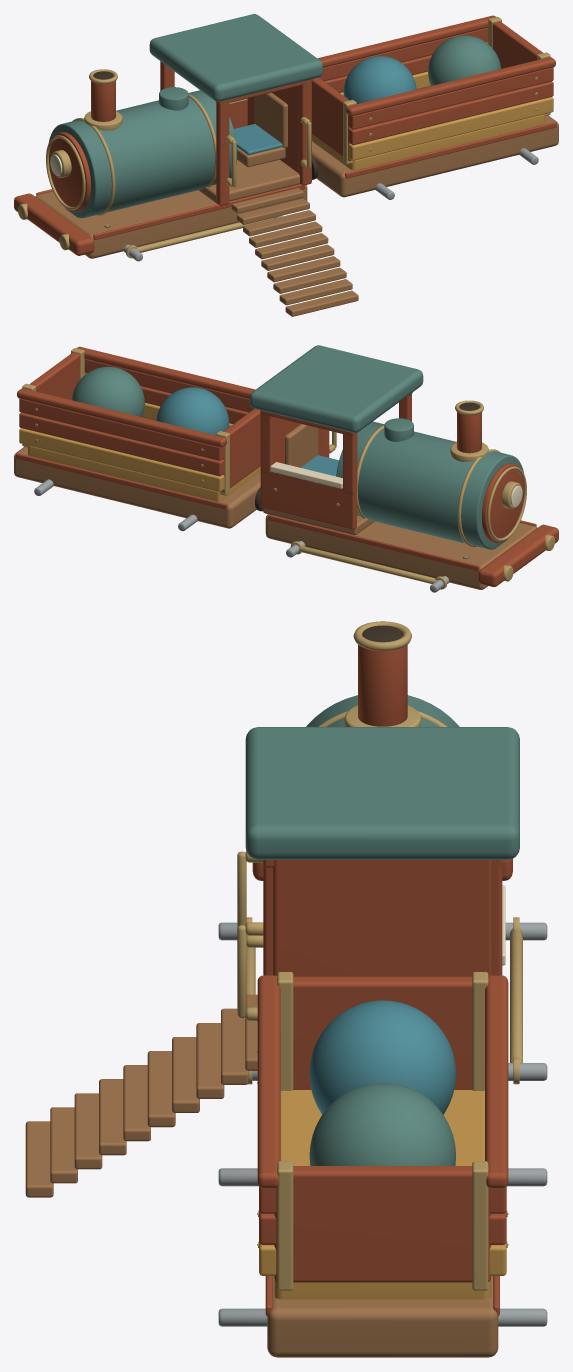
Rendered from v17_train_body.glb.
3 renders of one model, top to bottom at view 1: azimuth 30°, elevation 25°; view 2: azimuth 150°, elevation 25°; view 3: azimuth 270°, elevation 25°, orthographic. The views are drawn at different scales.
Parts seen in each view (by area): view 1: V15_RedPaint, V15_GreenPaint, V15_HoneyOak, V15_OchrePaint, V15_BrushedBrass, V15_BluePaint, V15_BearingSteel; view 2: V15_RedPaint, V15_GreenPaint, V15_HoneyOak, V15_OchrePaint, V15_BrushedBrass, V15_BluePaint, V15_CreamPaint, V15_BearingSteel; view 3: V15_RedPaint, V15_GreenPaint, V15_HoneyOak, V15_BrushedBrass, V15_BluePaint, V15_OchrePaint, V15_BearingSteel.
Part boxes in pixels (box(x1,y1,x2,y2)): V15_RedPaint: box(14, 15, 556, 255); V15_GreenPaint: box(48, 14, 500, 218); V15_HoneyOak: box(35, 92, 558, 316); V15_OchrePaint: box(312, 71, 553, 170); V15_BrushedBrass: box(18, 16, 550, 258); V15_BluePaint: box(234, 56, 416, 154); V15_BearingSteel: box(123, 148, 538, 261); V15_RedPaint: box(16, 346, 558, 586); V15_GreenPaint: box(72, 345, 523, 549); V15_HoneyOak: box(14, 424, 537, 589); V15_OchrePaint: box(19, 403, 260, 501); V15_BrushedBrass: box(22, 348, 554, 589); V15_BluePaint: box(156, 387, 338, 476); V15_CreamPaint: box(270, 462, 342, 488); V15_BearingSteel: box(34, 479, 449, 592); V15_RedPaint: box(252, 645, 512, 1316); V15_GreenPaint: box(245, 695, 519, 1165); V15_HoneyOak: box(25, 994, 498, 1357); V15_BrushedBrass: box(237, 621, 522, 1290); V15_BluePaint: box(309, 1000, 455, 1114); V15_OchrePaint: box(259, 1090, 506, 1299); V15_BearingSteel: box(218, 922, 547, 1326).
Bounding box in the file's own units: 3.13 × 1.23 × 1.44.
